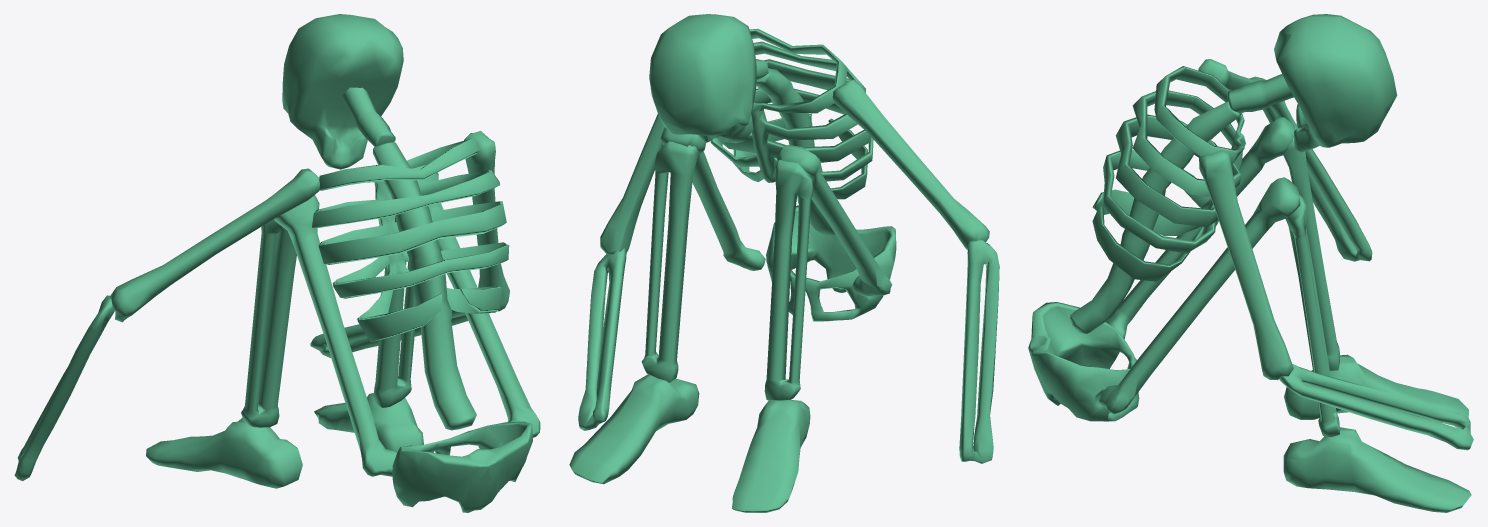
File: Skeleton_01_Lod1.fbx
3 renders of one model, left to right at view 1: azimuth 30°, elevation 25°; view 2: azimuth 150°, elevation 25°; view 3: azimuth 270°, elevation 25°, orthographic. The views are drawn at different scales.
Visible parts, largest first — view 1: Skeleton_01_Lod1; view 2: Skeleton_01_Lod1; view 3: Skeleton_01_Lod1.
Part boxes in pixels (x1,y1,x2,y2): Skeleton_01_Lod1: [14, 14, 540, 512]; Skeleton_01_Lod1: [569, 14, 999, 512]; Skeleton_01_Lod1: [1028, 14, 1473, 512].
Size of the model in its own units: 67.68 by 65.34 by 58.33.
